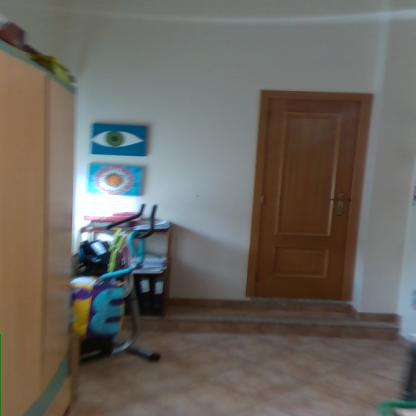door: (265, 99, 350, 300)
hinged: (259, 193, 267, 208), (268, 110, 272, 127), (255, 270, 260, 283)
lever: (327, 197, 347, 202)
